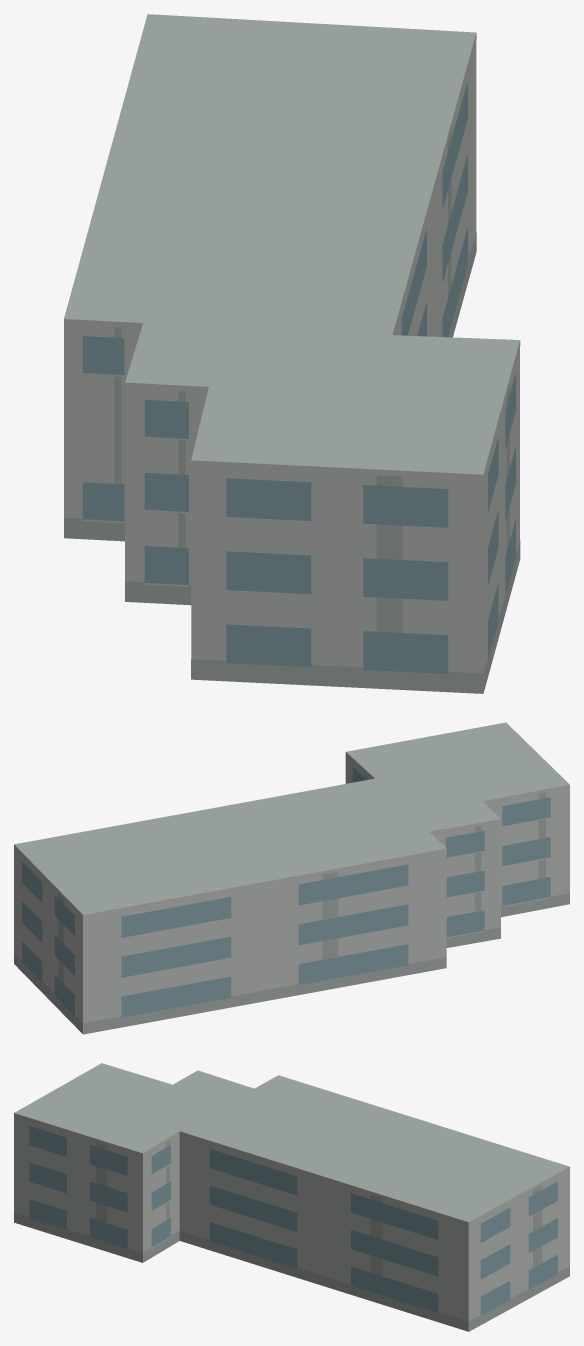
Rendered from survey-upis-32647961.glb.
3 views of the same model, one above another, from view 1: azimuth 30°, elevation 25°; view 2: azimuth 150°, elevation 25°; view 3: azimuth 270°, elevation 25° (orthographic). The views are drawn at different scales.
Parts seen in each view (by area): view 1: survey-upis-32647961.tmp; view 2: survey-upis-32647961.tmp; view 3: survey-upis-32647961.tmp.
Part boxes in pixels (left/top/right/bottom): survey-upis-32647961.tmp: left=64, top=14, right=520, bottom=693; survey-upis-32647961.tmp: left=14, top=722, right=569, bottom=1034; survey-upis-32647961.tmp: left=14, top=1063, right=569, bottom=1331.
Size of the model in its own units: 28.51 by 9.15 by 42.07.
